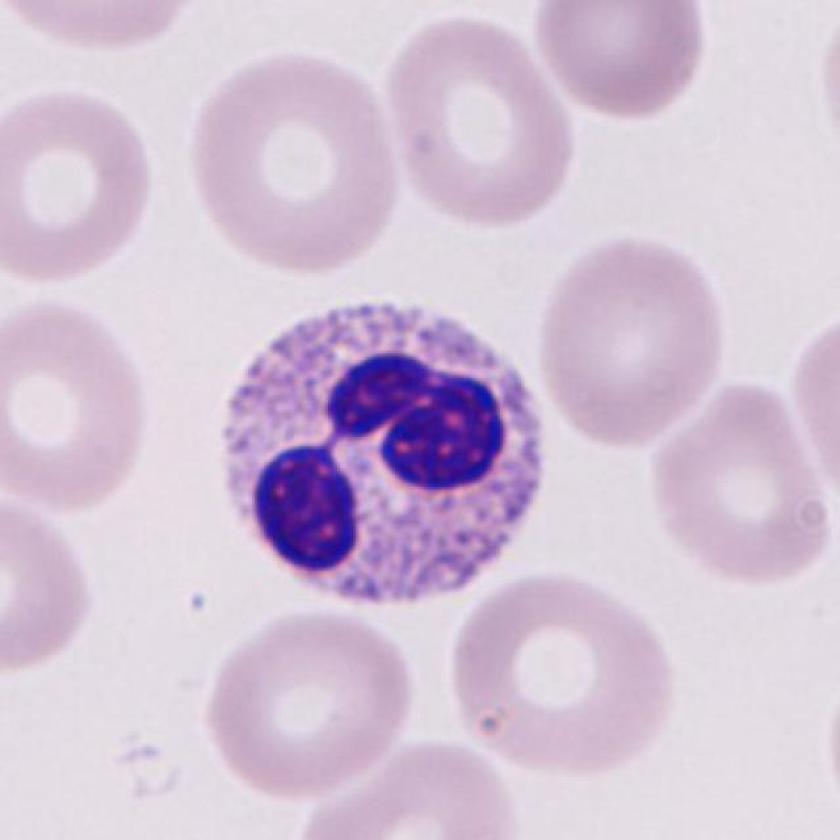neutrophil: (220, 303, 546, 610)
